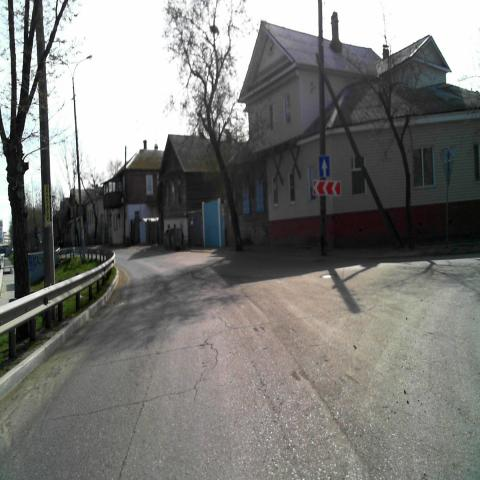5_5: (320, 155, 330, 179)
